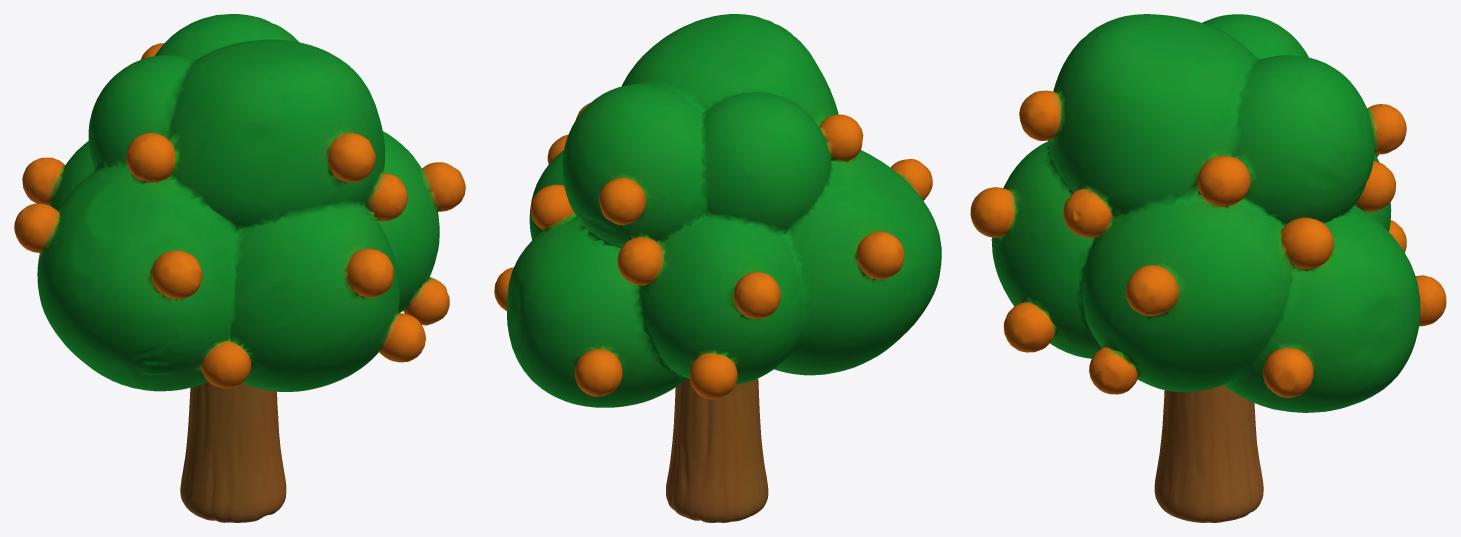
The model's file is 22-arvore-laranjas.glb.
3 renders of one model, left to right at view 1: azimuth 30°, elevation 25°; view 2: azimuth 150°, elevation 25°; view 3: azimuth 270°, elevation 25°, orthographic. The views are drawn at different scales.
Visible parts, largest first — view 1: tripo_node_698c8764-7e73-4a89-afd0-521f87ef8830; view 2: tripo_node_698c8764-7e73-4a89-afd0-521f87ef8830; view 3: tripo_node_698c8764-7e73-4a89-afd0-521f87ef8830.
Part boxes in pixels (x1=…): tripo_node_698c8764-7e73-4a89-afd0-521f87ef8830: x1=14, y1=14, x2=465, y2=522; tripo_node_698c8764-7e73-4a89-afd0-521f87ef8830: x1=494, y1=14, x2=941, y2=522; tripo_node_698c8764-7e73-4a89-afd0-521f87ef8830: x1=970, y1=14, x2=1446, y2=522.
Bounding box in the file's own units: 0.8918 × 1 × 0.8889.
Materials: 1 (1 with a texture image).
